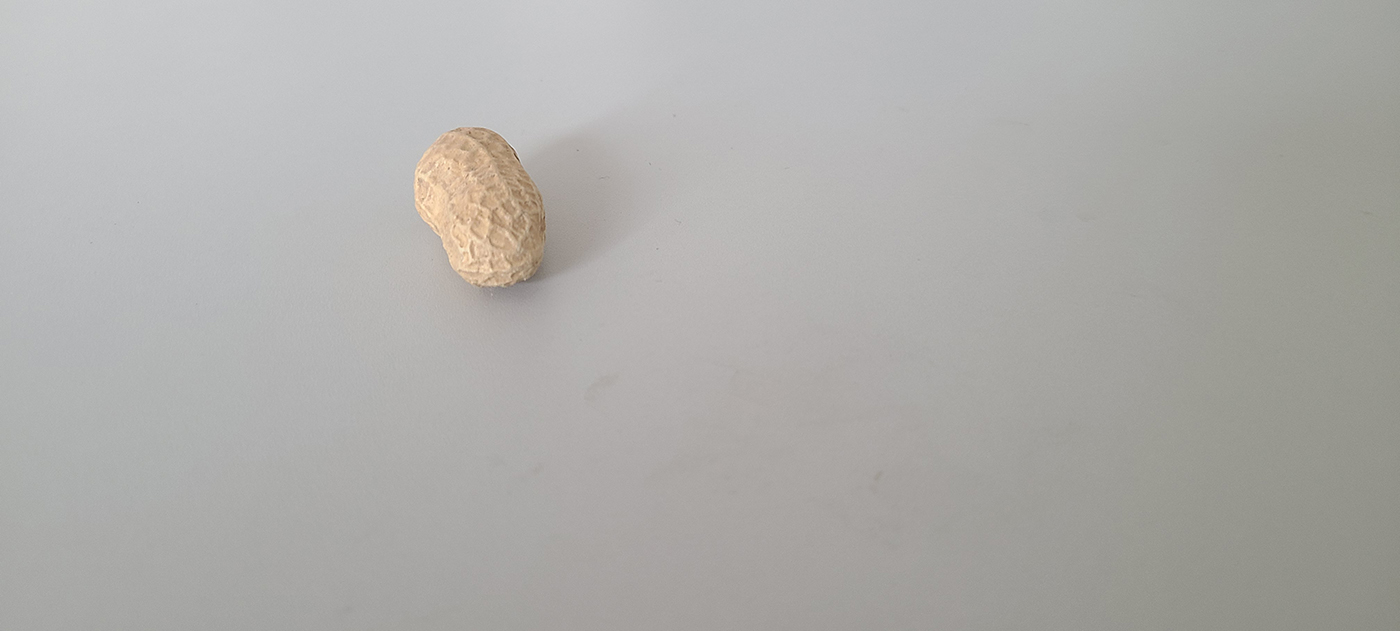h: (414, 126, 549, 291)
